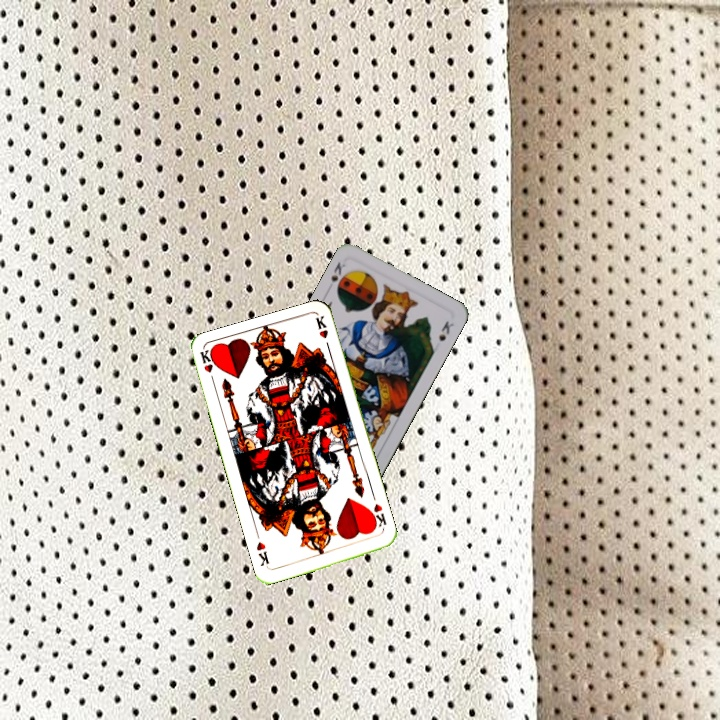HK: (196, 346, 218, 387), (365, 500, 389, 535)
SK: (327, 258, 348, 285)
